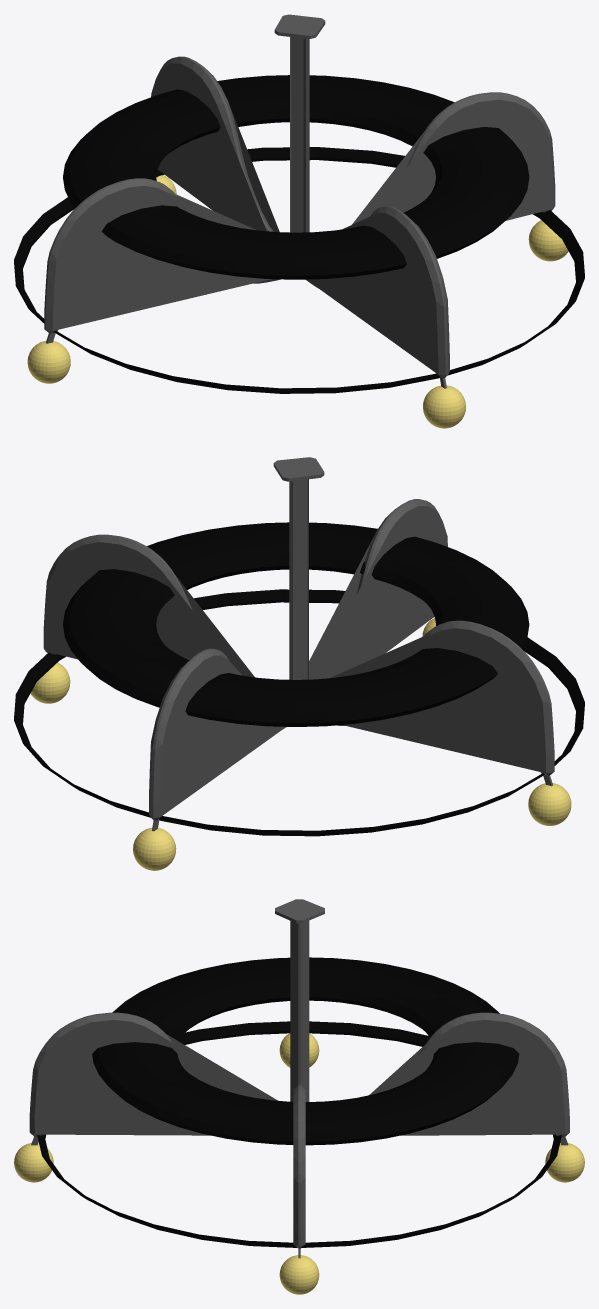
File: AVİZE_fix.fbx
3 views of the same model, one above another, from view 1: azimuth 30°, elevation 25°; view 2: azimuth 150°, elevation 25°; view 3: azimuth 270°, elevation 25° (orthographic). The views are drawn at different scales.
Parts seen in each view (by area): view 1: Vert, Torus, Circle, Sphere.003, Sphere.001, Sphere; view 2: Vert, Torus, Circle, Sphere.001, Sphere.002, Sphere; view 3: Torus, Vert, Circle, Sphere, Sphere.003, Sphere.002, Sphere.001.
Part boxes in pixels (x1,y1,x2,y2): Vert: (44,14,555,388); Torus: (63,75,529,279); Circle: (14,147,584,393); Sphere.003: (423,385,465,428); Sphere.001: (27,341,70,383); Sphere: (528,220,568,261); Vert: (43,457,554,831); Torus: (63,522,529,726); Circle: (14,589,584,836); Sphere.001: (528,783,571,825); Sphere.002: (133,827,176,870); Sphere: (30,662,70,703); Torus: (92,957,519,1145); Vert: (29,899,569,1258); Circle: (37,1021,561,1247); Sphere: (279,1255,319,1294); Sphere.003: (14,1143,53,1182); Sphere.002: (545,1143,584,1182); Sphere.001: (279,1033,319,1067).
Size of the model in its own units: 232 by 121 by 232.
